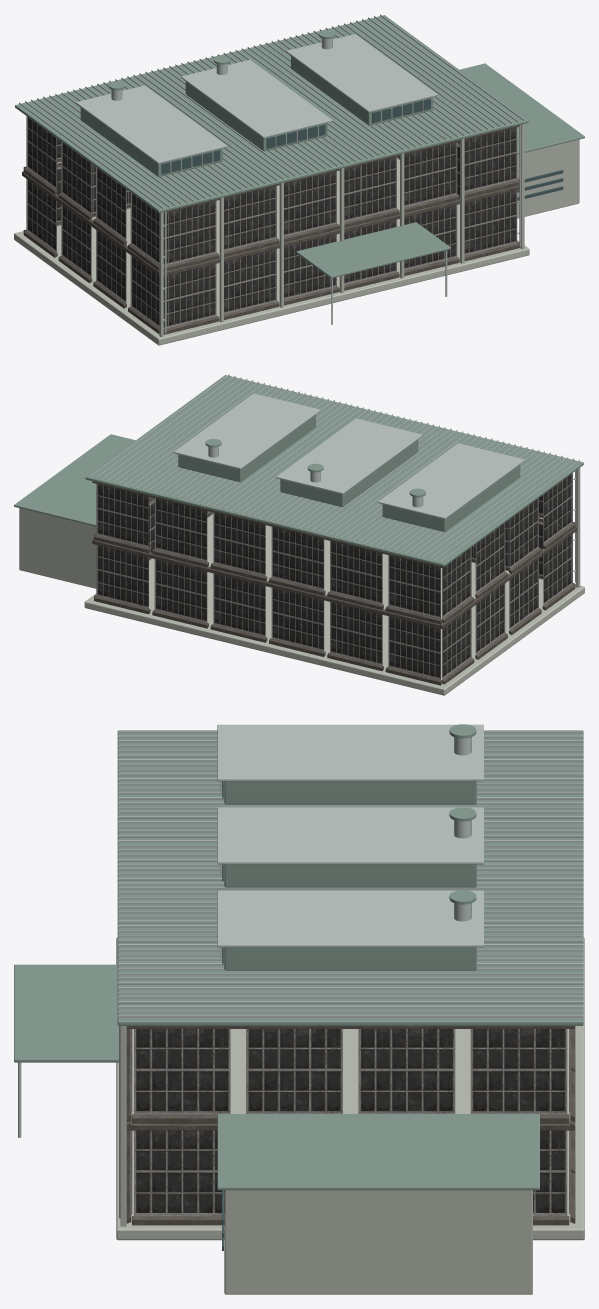
The model's file is factory.glb.
3 views of the same model, one above another, from view 1: azimuth 30°, elevation 25°; view 2: azimuth 150°, elevation 25°; view 3: azimuth 270°, elevation 25° (orthographic). The views are drawn at different scales.
Parts seen in each view (by area): view 1: StaticAssembly; view 2: StaticAssembly; view 3: StaticAssembly.
Part boxes in pixels (x1=…): StaticAssembly: x1=14, y1=14, x2=584, y2=345; StaticAssembly: x1=14, y1=374, x2=584, y2=695; StaticAssembly: x1=14, y1=724, x2=584, y2=1294.
Size of the model in its own units: 30.45 by 10.6 by 20.35.
Materials: 6 (2 with a texture image).
